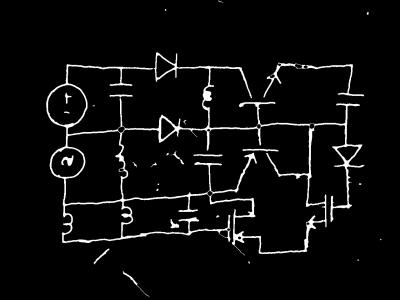capacitor: (113, 137, 130, 186), (201, 80, 216, 114), (118, 202, 134, 230), (61, 208, 74, 239)
diode: (191, 147, 224, 172), (108, 76, 134, 104), (335, 89, 366, 112), (178, 204, 200, 226)
inductor: (46, 79, 89, 131)
resistor: (48, 144, 87, 183)
signal: (330, 140, 368, 170), (150, 50, 180, 83), (153, 113, 182, 145)
